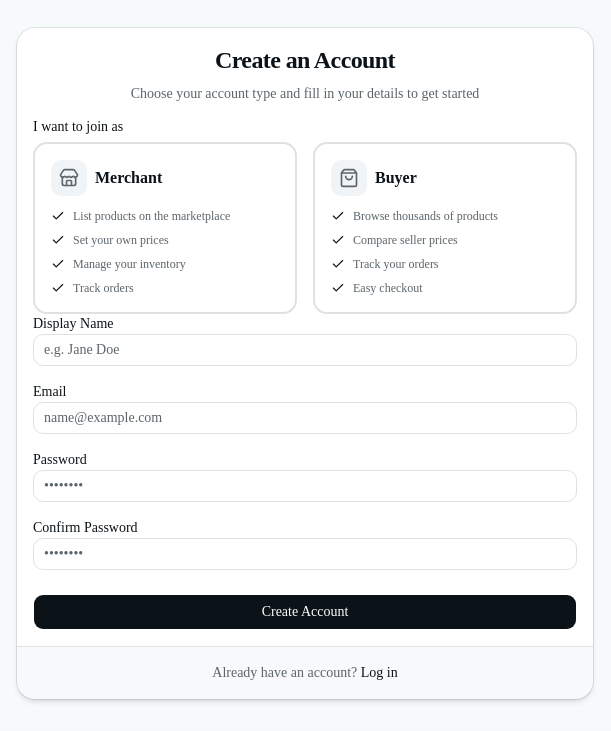
Test: SignupPage Component › displays error when passwords do not match
Click the radio button labelled "Buyer".
click(445, 228)  # box left=313, top=142, right=577, bottom=314
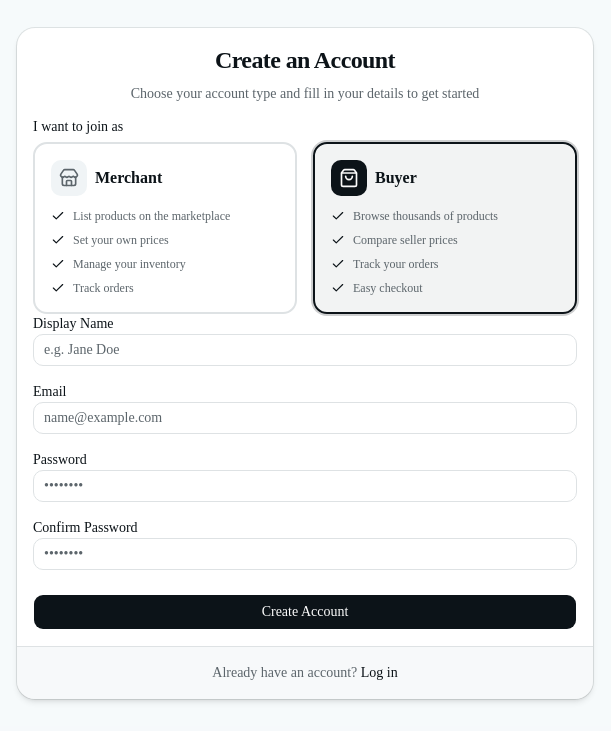
Type "Jane Doe" into the field labelled "Display Name".
click(305, 350); type("Jane Doe")  # box left=33, top=334, right=577, bottom=366
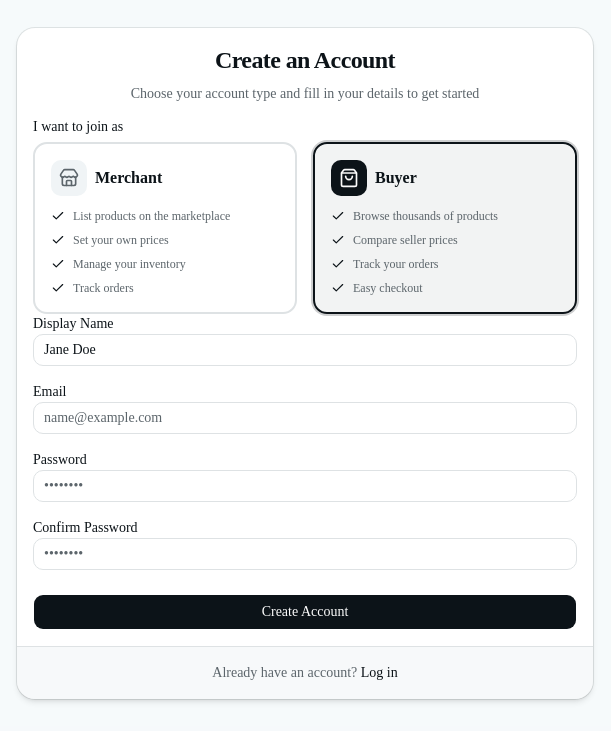
Type "jane@example.com" into the field labelled "Email".
click(305, 418); type("jane@example.com")  # box left=33, top=402, right=577, bottom=434
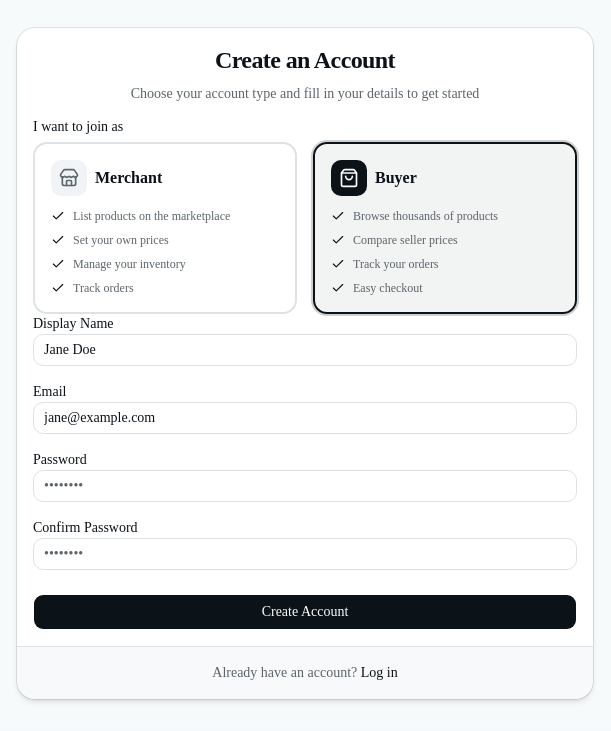
Type "password123" into the password field labelled "Password".
click(305, 486); type("password123")  # box left=33, top=470, right=577, bottom=502
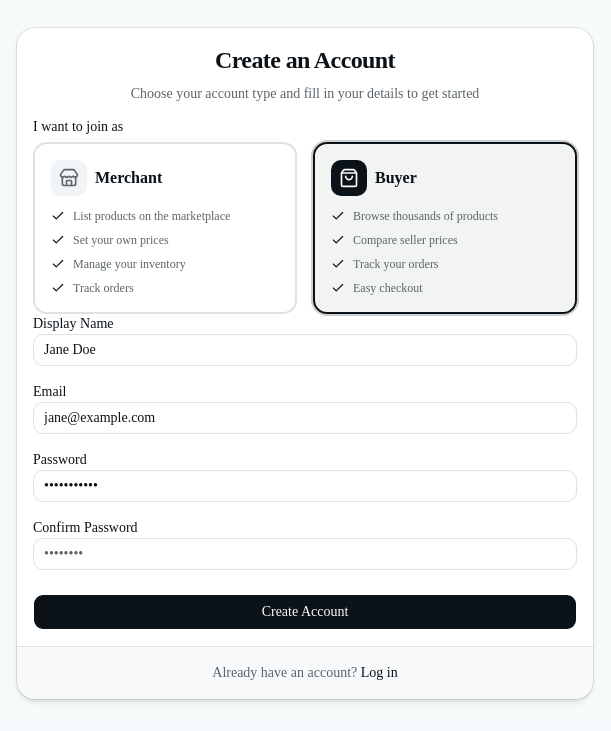
Type "mismatchpass" into the password field labelled "Confirm Password".
click(305, 554); type("mismatchpass")  # box left=33, top=538, right=577, bottom=570
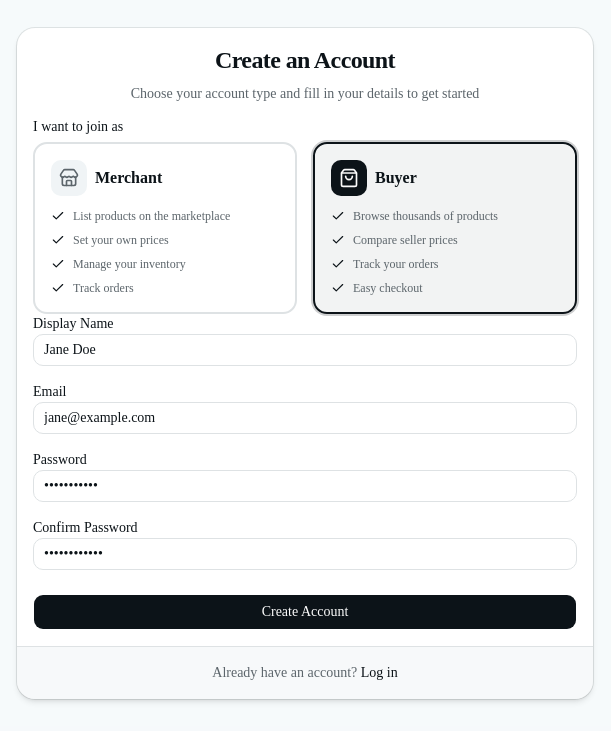
Click the button "Create Account".
click(305, 612)  # box left=33, top=594, right=577, bottom=630
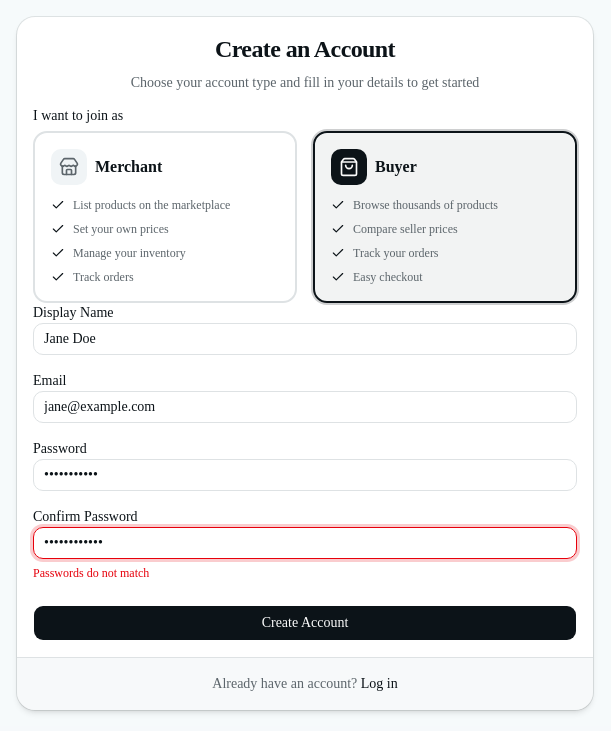
Result: the text "Passwords do not match" is shown at left=33, top=566, right=149, bottom=580
